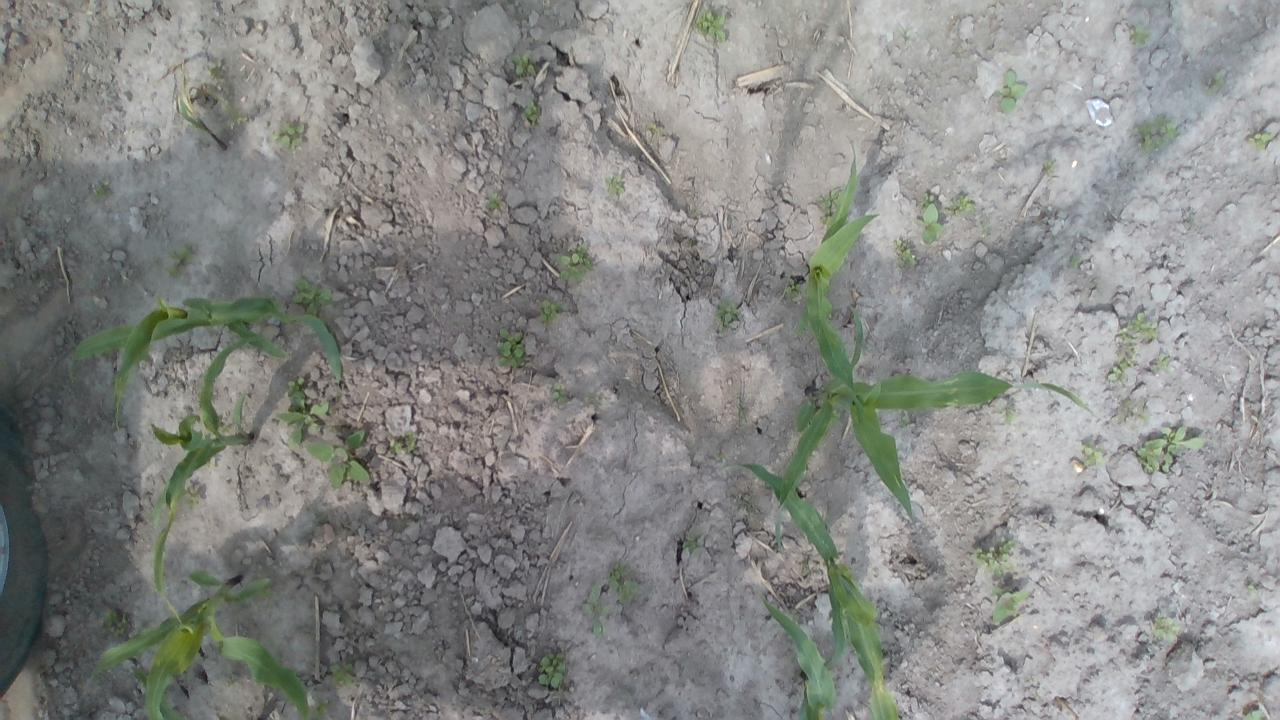Maize: (775, 308, 1097, 546), (739, 461, 901, 720), (67, 294, 342, 430), (82, 571, 310, 720), (152, 337, 264, 608), (799, 137, 880, 405), (759, 592, 834, 719), (173, 80, 231, 154)
Weeds: (306, 430, 372, 488), (1136, 425, 1205, 474), (276, 400, 331, 448), (1132, 114, 1178, 154), (971, 538, 1018, 574), (290, 276, 331, 316), (582, 582, 612, 636), (554, 242, 593, 283), (994, 68, 1028, 115), (990, 586, 1031, 624), (917, 193, 945, 243), (1116, 392, 1154, 428), (1118, 312, 1158, 344), (693, 8, 729, 42), (538, 650, 569, 687), (498, 329, 526, 368), (1108, 340, 1134, 382), (608, 567, 638, 603), (166, 245, 197, 278), (272, 120, 306, 150), (814, 187, 840, 223), (100, 608, 130, 637), (716, 299, 742, 331), (1150, 616, 1180, 640), (946, 195, 976, 219), (536, 299, 564, 323), (893, 238, 916, 266), (389, 432, 418, 454), (330, 664, 355, 687), (1149, 352, 1175, 374), (1205, 71, 1227, 96), (682, 531, 705, 554), (1248, 130, 1274, 150), (512, 53, 534, 76), (287, 377, 307, 402), (523, 100, 542, 126), (1084, 444, 1104, 468), (552, 382, 570, 408), (184, 482, 202, 508), (1242, 703, 1268, 720), (1130, 25, 1152, 45), (90, 180, 114, 198), (605, 174, 624, 195), (736, 492, 756, 511), (1186, 203, 1200, 230), (785, 278, 802, 300), (208, 60, 228, 78), (485, 193, 504, 211), (313, 698, 328, 720), (736, 397, 750, 420), (309, 509, 327, 526), (1003, 404, 1018, 422), (586, 393, 604, 408), (232, 109, 248, 125), (223, 673, 240, 688), (1043, 160, 1058, 175), (1070, 253, 1082, 270), (1246, 582, 1260, 596), (646, 122, 660, 136), (716, 448, 726, 463), (832, 411, 841, 424), (898, 415, 908, 426), (688, 237, 696, 248)
